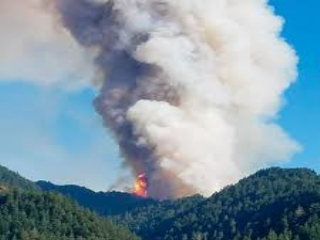fire: (127, 169, 153, 198)
smoke: (78, 1, 284, 194)
